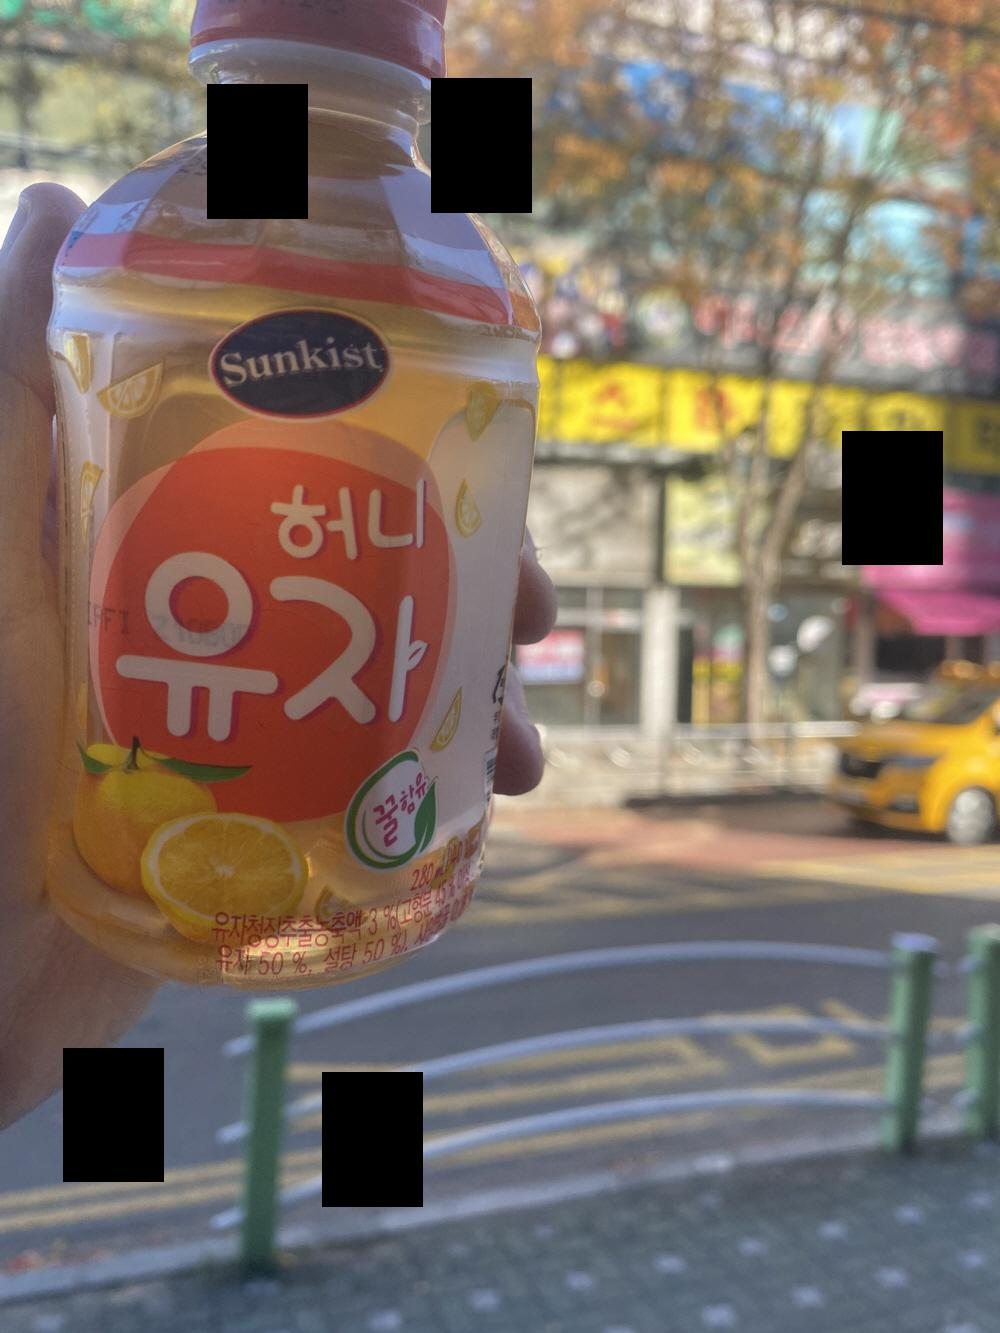honeyyuja: (37, 0, 547, 1000)
